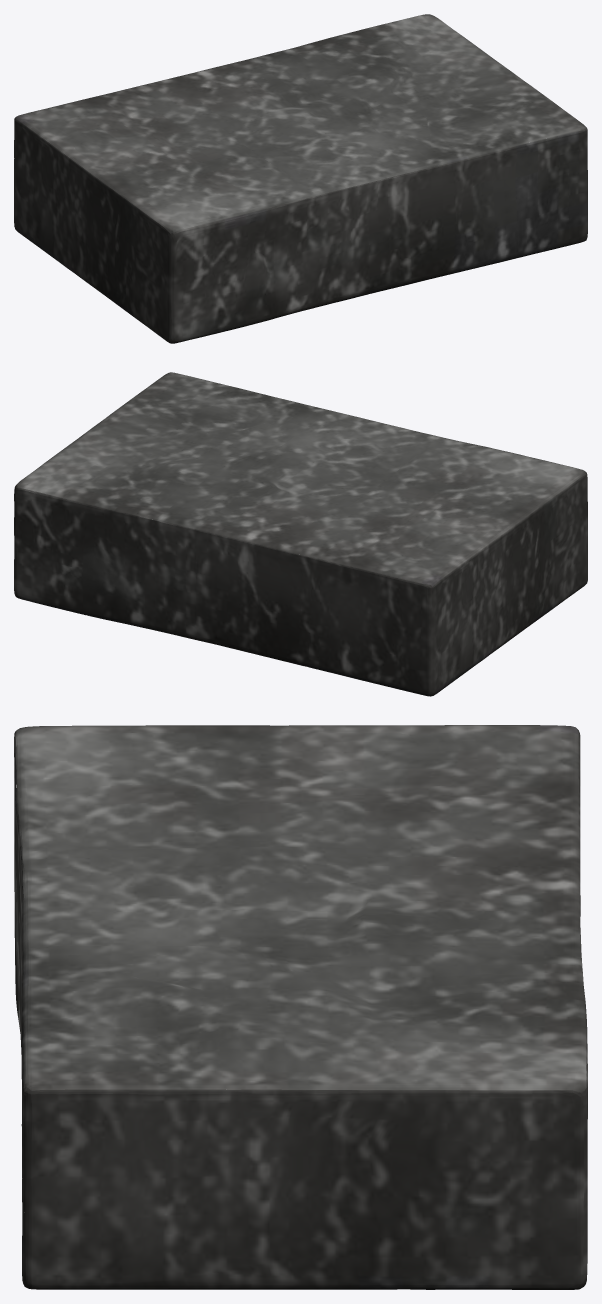
File: j-table-marbre-noir.glb
3 renders of one model, top to bottom at view 1: azimuth 30°, elevation 25°; view 2: azimuth 150°, elevation 25°; view 3: azimuth 270°, elevation 25°, orthographic. The views are drawn at different scales.
Parts seen in each view (by area): view 1: geometry_0; view 2: geometry_0; view 3: geometry_0.
Part boxes in pixels (x1=…): geometry_0: x1=14, y1=14, x2=587, y2=343; geometry_0: x1=14, y1=372, x2=587, y2=696; geometry_0: x1=14, y1=725, x2=587, y2=1289.
Bounding box in the file's own units: 1 × 0.2614 × 0.6632.
Materials: 1 (1 with a texture image).
